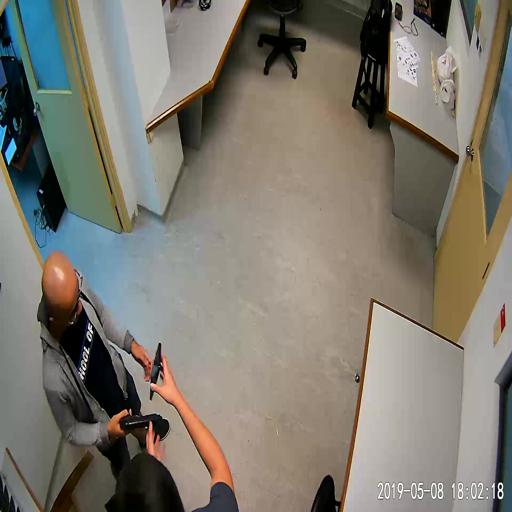pistol: (119, 411, 162, 432)
